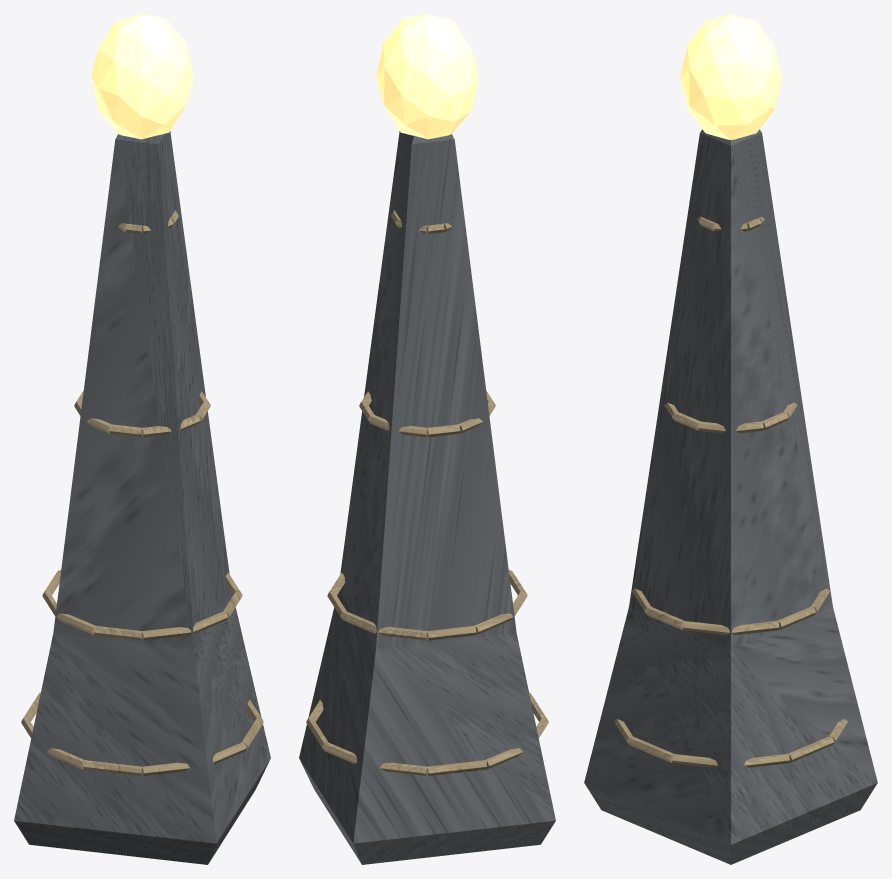
File: dimensional_tower.glb
The picture shows the model from 3 angles, left to right: view 1: azimuth 30°, elevation 25°; view 2: azimuth 150°, elevation 25°; view 3: azimuth 270°, elevation 25°; orthographic projection.
Parts seen in each view (by area): view 1: stone, glowgold, gold; view 2: stone, glowgold, gold; view 3: stone, glowgold, gold.
Part boxes in pixels (x1=…): stone: x1=14, y1=131, x2=270, y2=864; glowgold: x1=91, y1=14, x2=193, y2=139; gold: x1=21, y1=210, x2=263, y2=776; stone: x1=299, y1=131, x2=555, y2=864; glowgold: x1=376, y1=14, x2=478, y2=139; gold: x1=306, y1=210, x2=548, y2=776; stone: x1=584, y1=129, x2=877, y2=864; glowgold: x1=680, y1=14, x2=781, y2=139; gold: x1=614, y1=216, x2=847, y2=767.
Size of the model in its own units: 3.4 by 10.14 by 3.4.
Materials: 4 (4 with a texture image).
